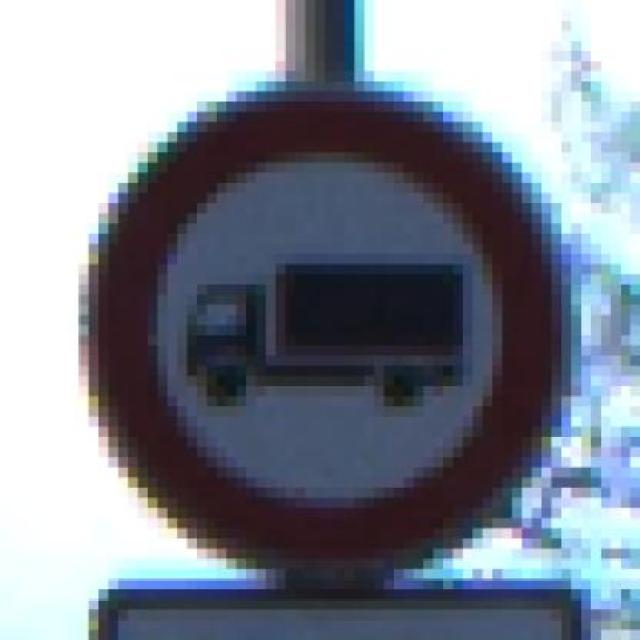Truck traffic is prohibited: (49, 61, 571, 590)
